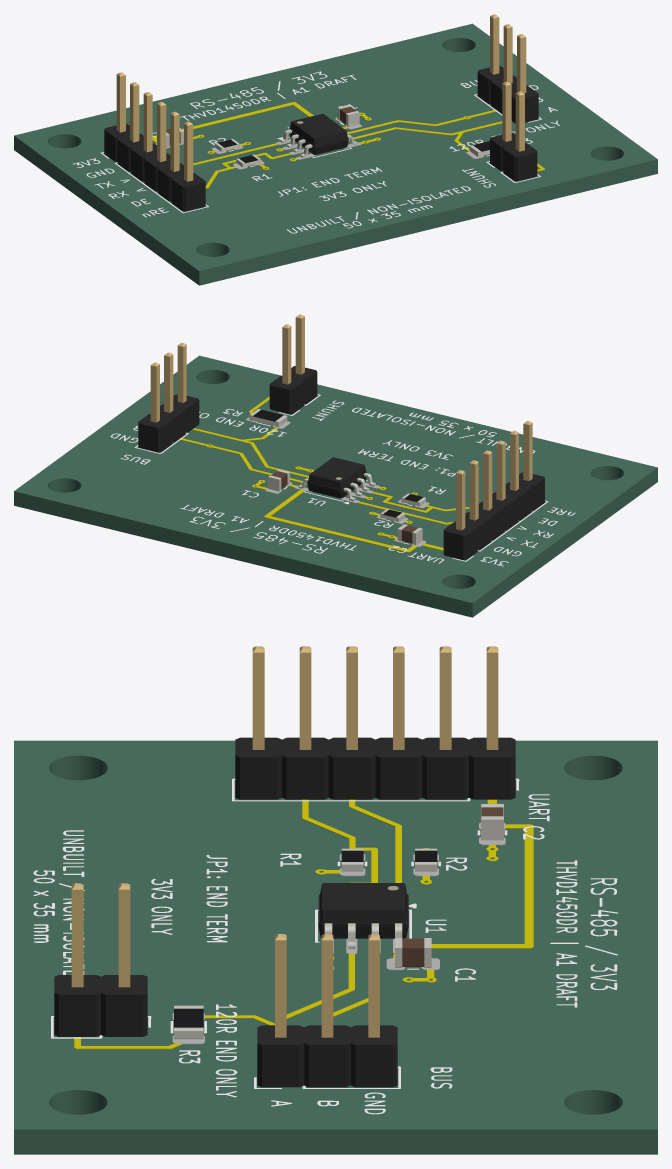
File: rs485-interface.glb
The picture shows the model from 3 angles, top to bottom: view 1: azimuth 30°, elevation 25°; view 2: azimuth 150°, elevation 25°; view 3: azimuth 270°, elevation 25°; orthographic projection. The views are drawn at different scales.
Visible parts, largest first — view 1: =>[0:1:1:21], =>[0:1:1:3], =>[0:1:1:19], =>[0:1:1:15], =>[0:1:1:5], =>[0:1:1:16], =>[0:1:1:9], =>[0:1:1:17]; view 2: =>[0:1:1:21], =>[0:1:1:3], =>[0:1:1:19], =>[0:1:1:15], =>[0:1:1:5], =>[0:1:1:16], =>[0:1:1:9], =>[0:1:1:17], =>[0:1:1:13]; view 3: =>[0:1:1:21], =>[0:1:1:3], =>[0:1:1:15], =>[0:1:1:19], =>[0:1:1:5], =>[0:1:1:16], =>[0:1:1:9], =>[0:1:1:7] (×2), =>[0:1:1:17], =>[0:1:1:13].
Part boxes in pixels (x1=…): =>[0:1:1:21]: x1=14, y1=23, x2=657, y2=285; =>[0:1:1:3]: x1=104, y1=72, x2=205, y2=211; =>[0:1:1:19]: x1=72, y1=71, x2=559, y2=233; =>[0:1:1:15]: x1=477, y1=14, x2=538, y2=123; =>[0:1:1:5]: x1=490, y1=81, x2=537, y2=181; =>[0:1:1:16]: x1=152, y1=102, x2=545, y2=188; =>[0:1:1:9]: x1=280, y1=113, x2=357, y2=157; =>[0:1:1:17]: x1=155, y1=117, x2=483, y2=169; =>[0:1:1:21]: x1=14, y1=355, x2=657, y2=617; =>[0:1:1:3]: x1=443, y1=421, x2=544, y2=559; =>[0:1:1:19]: x1=110, y1=394, x2=575, y2=566; =>[0:1:1:15]: x1=138, y1=342, x2=199, y2=452; =>[0:1:1:5]: x1=269, y1=314, x2=317, y2=414; =>[0:1:1:16]: x1=179, y1=396, x2=469, y2=552; =>[0:1:1:9]: x1=298, y1=457, x2=375, y2=501; =>[0:1:1:17]: x1=246, y1=417, x2=429, y2=546; =>[0:1:1:13]: x1=249, y1=409, x2=287, y2=427; =>[0:1:1:21]: x1=14, y1=740, x2=657, y2=1154; =>[0:1:1:3]: x1=235, y1=646, x2=515, y2=799; =>[0:1:1:15]: x1=257, y1=934, x2=397, y2=1087; =>[0:1:1:19]: x1=33, y1=778, x2=617, y2=1114; =>[0:1:1:5]: x1=54, y1=883, x2=147, y2=1036; =>[0:1:1:16]: x1=74, y1=799, x2=533, y2=1049; =>[0:1:1:9]: x1=318, y1=883, x2=408, y2=949; =>[0:1:1:7] (×2): x1=395, y1=804, x2=503, y2=967; =>[0:1:1:17]: x1=172, y1=822, x2=505, y2=1044; =>[0:1:1:13]: x1=174, y1=1005, x2=203, y2=1039.
Size of the model in its own units: 0.05 by 0.0115 by 0.035.
